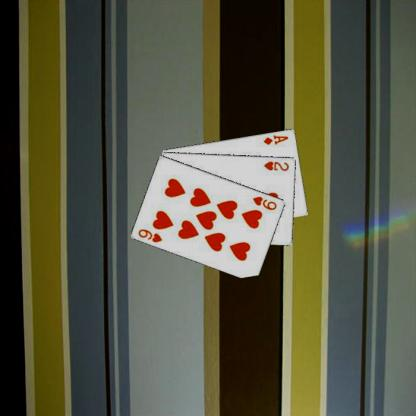2H: (261, 158, 290, 172)
9H: (136, 226, 164, 244), (250, 194, 278, 211)
AD: (261, 132, 289, 146)
